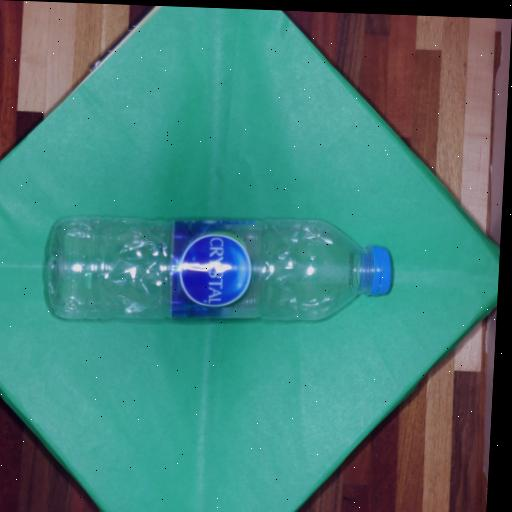bottle: (49, 217, 391, 320)
